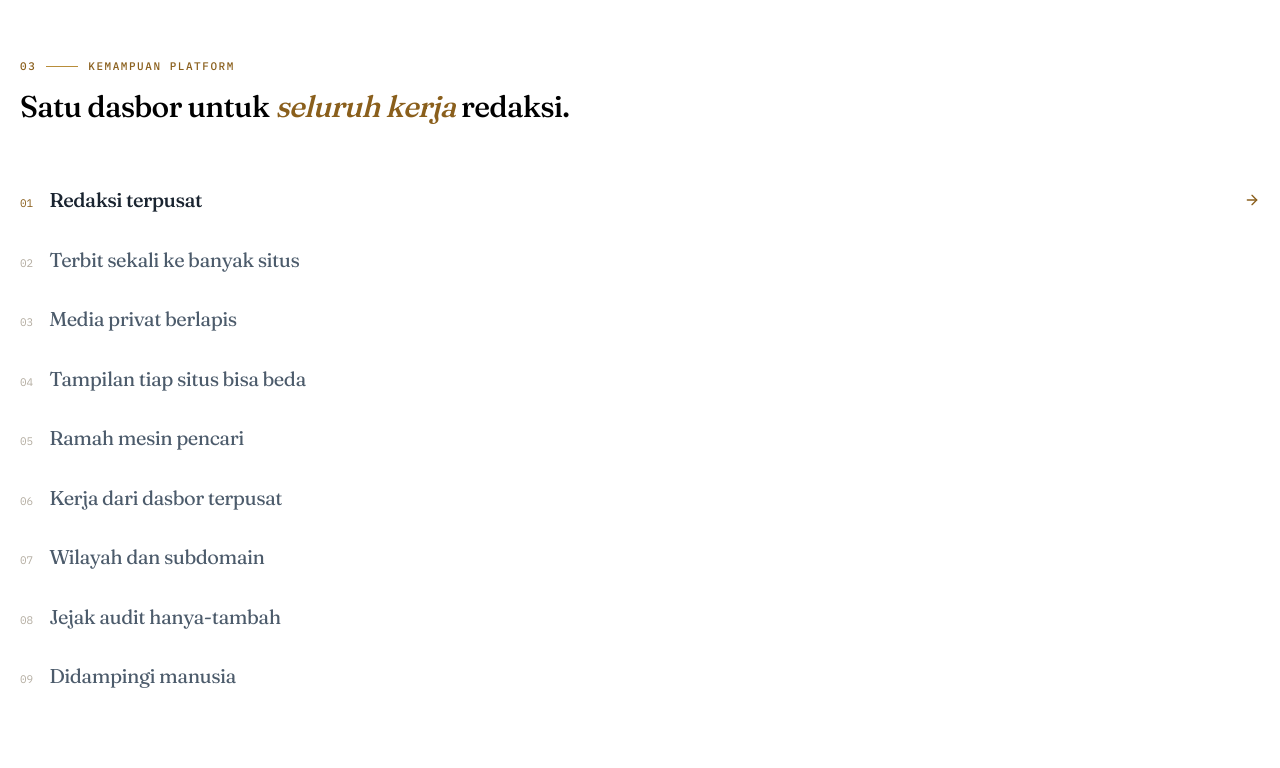
Test: CapabilityExplorer › berganti panel saat tab diklik
The image size is (1280, 768).
Click the tab "02 Terbit sekali ke banyak situs": (174, 259) x1=20 y1=230 x2=1260 y2=289
(page scrolled)
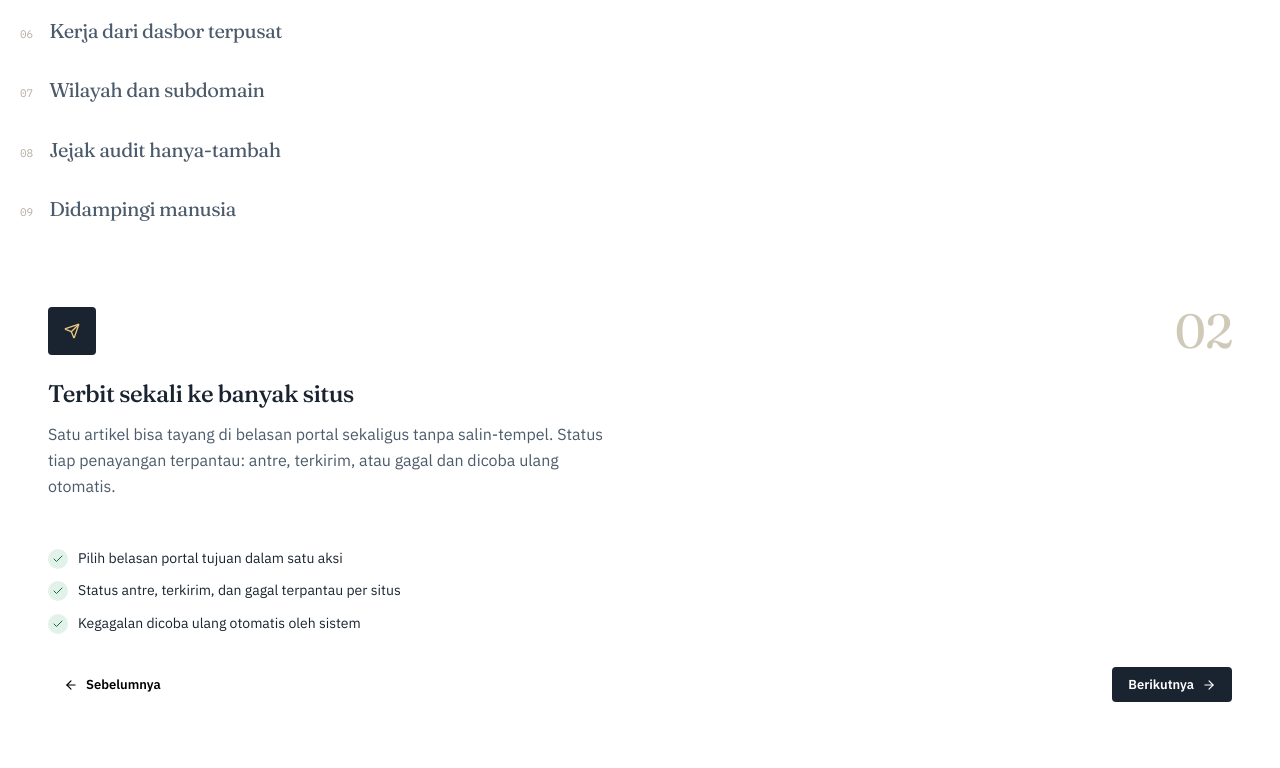
Result: the panel shows "Terbit sekali ke banyak situs" at x1=48 y1=378 x2=354 y2=408
